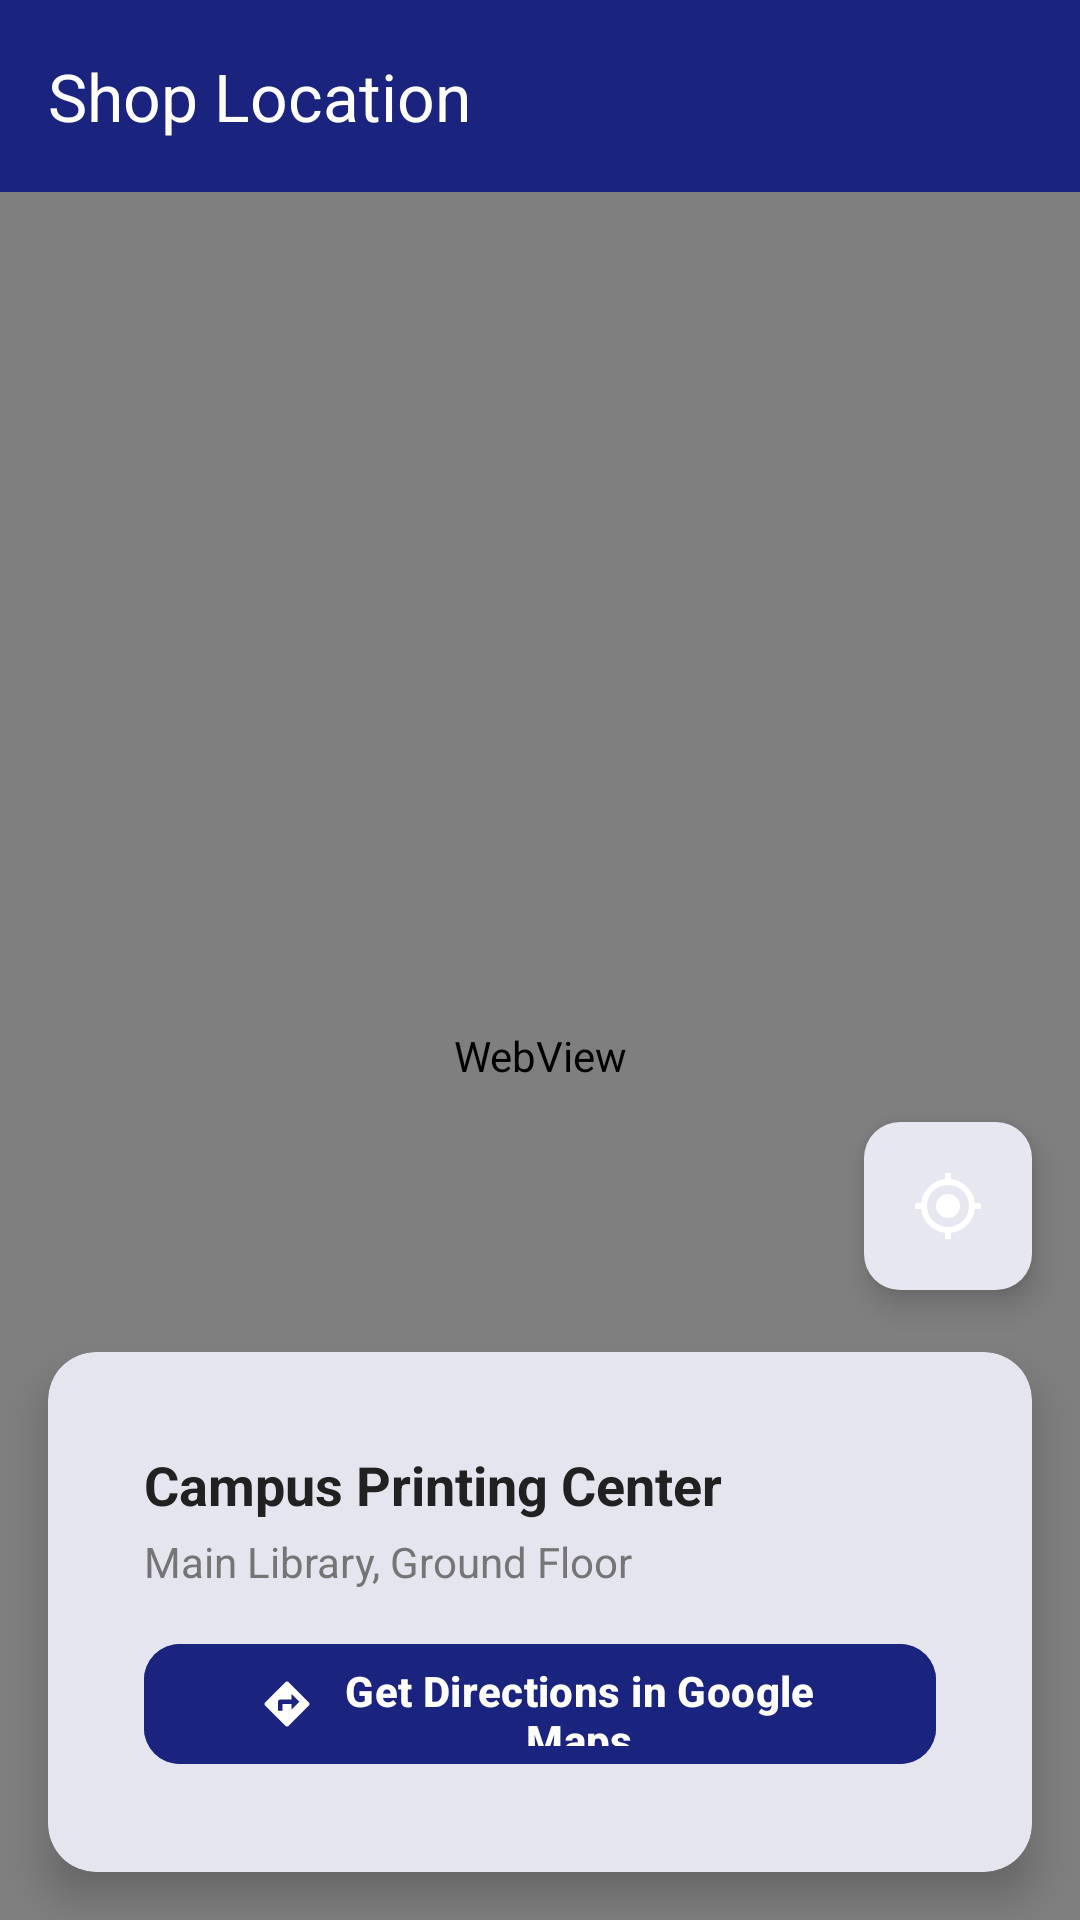

Where icons sit on this 1080px×1920px app screen, as {"x1": x1, "y1": y1, "x2": x2, "y2": y2}:
My Location: {"x1": 864, "y1": 1122, "x2": 1032, "y2": 1290}
